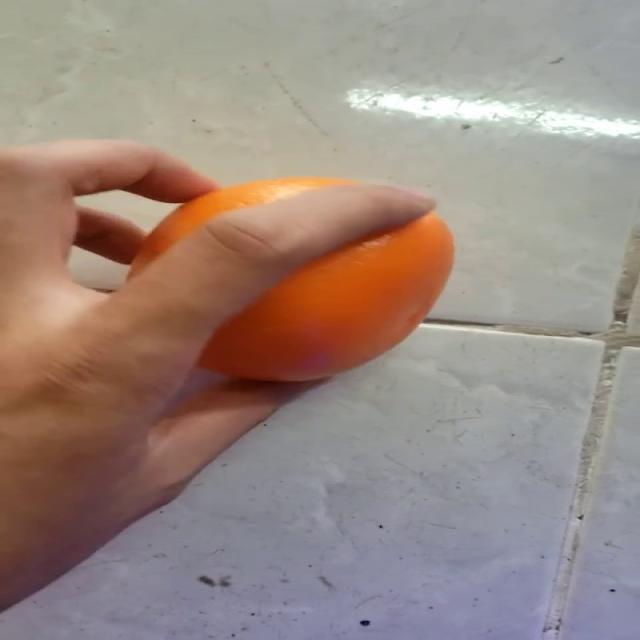Orange: (125, 174, 455, 384)
